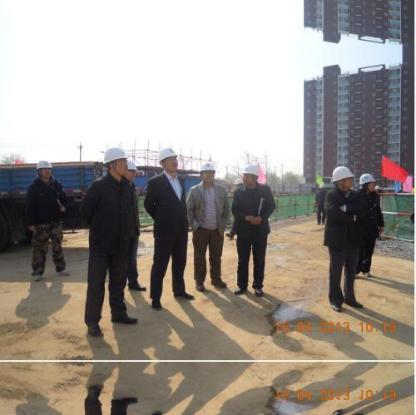helmet: (98, 145, 128, 167), (330, 163, 357, 185), (156, 146, 182, 164), (240, 161, 261, 183), (35, 155, 53, 174), (357, 169, 377, 186), (123, 157, 141, 175), (199, 158, 216, 176)
